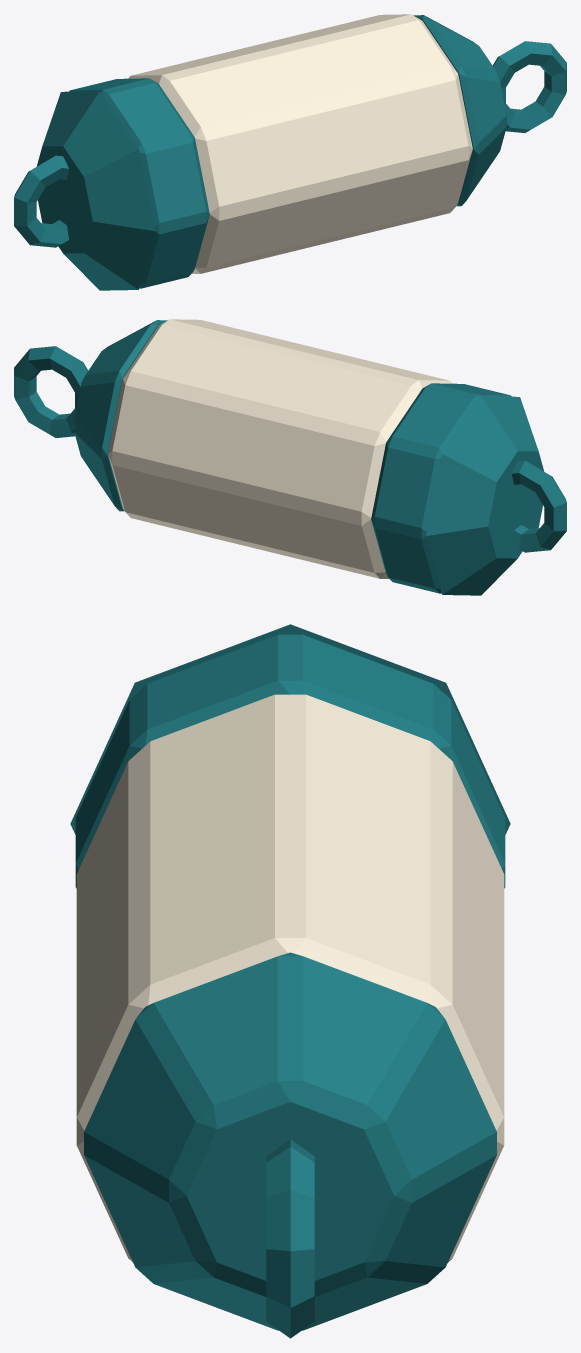
Rendered from boat_fender.glb.
The picture shows the model from 3 angles, top to bottom: view 1: azimuth 30°, elevation 25°; view 2: azimuth 150°, elevation 25°; view 3: azimuth 270°, elevation 25°; orthographic projection. The views are drawn at different scales.
Parts seen in each view (by area): view 1: boat_fender; view 2: boat_fender; view 3: boat_fender.
Boxes of the visible parts, x1=… form: boat_fender: x1=14, y1=14, x2=566, y2=290; boat_fender: x1=14, y1=319, x2=566, y2=595; boat_fender: x1=70, y1=624, x2=510, y2=1338.
Size of the model in its own units: 0.7541 by 0.26 by 0.26.
